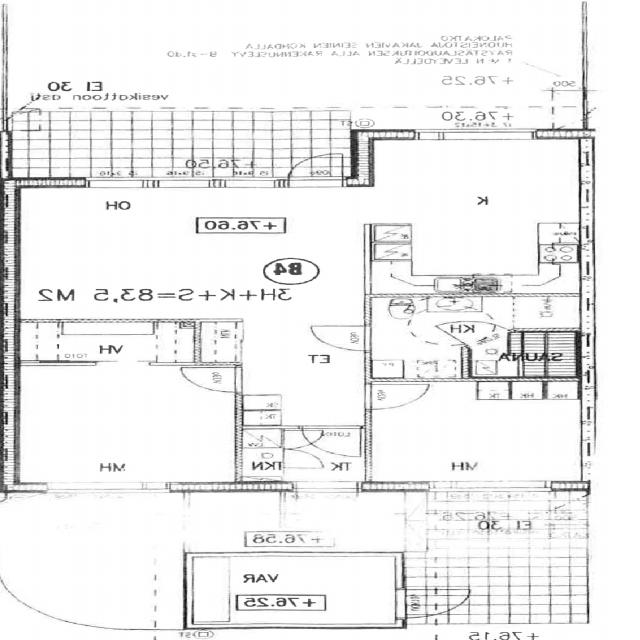door: (438, 312, 512, 347), (296, 481, 358, 517), (396, 590, 468, 618), (303, 425, 362, 455), (290, 155, 343, 188), (364, 385, 425, 409), (312, 326, 371, 350), (183, 368, 242, 392)
